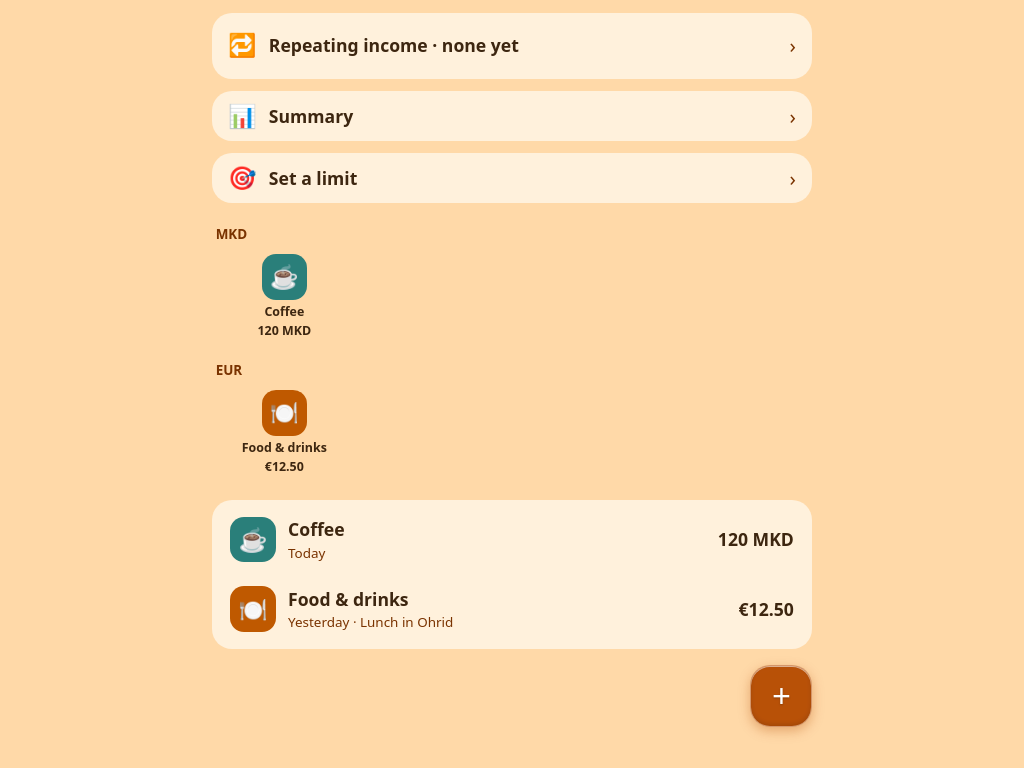
Test case: BudgetScreen adding and editing › tapping an entry › opens the sheet filled in with that entry (en)
The image size is (1024, 768).
(page scrolled)
Click the button "🍽️ Food & drinks Yesterday · Lunch in Ohrid €12.50" at (253, 609), box 218,575 -> 806,643
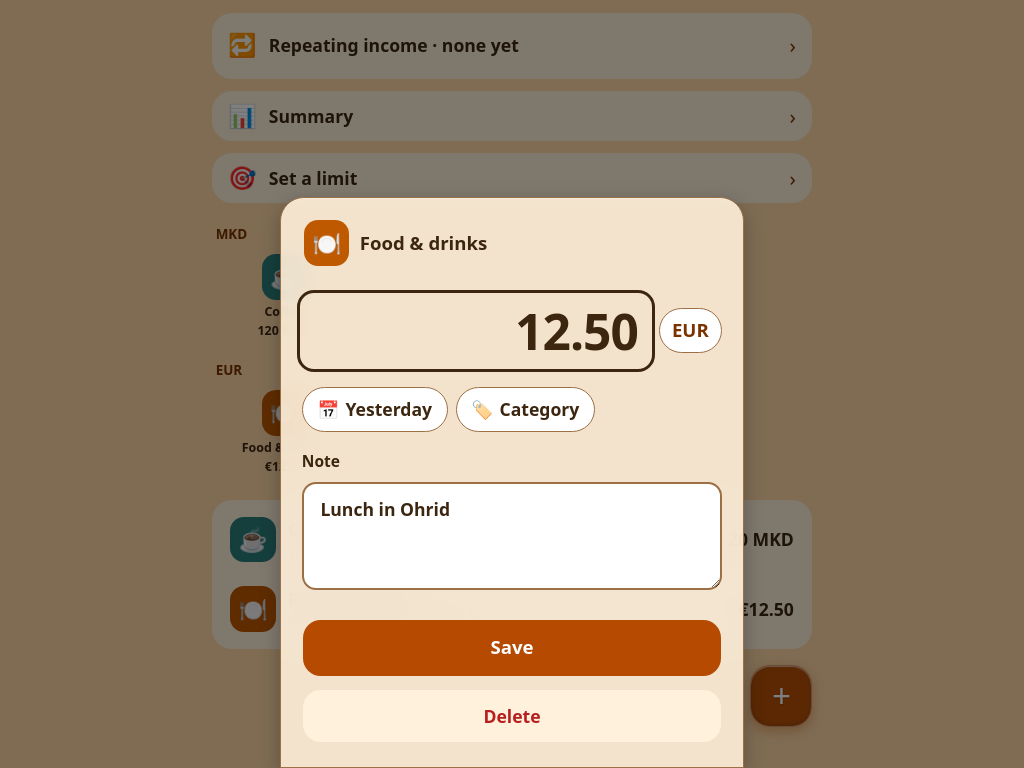
expect the field named "Amount" holds "12.50": met, box 300,293 -> 652,369
